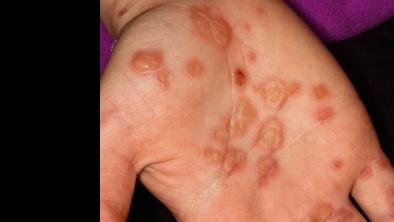SJS-TEN: (195, 45, 352, 210), (120, 0, 247, 109), (297, 188, 360, 222)
